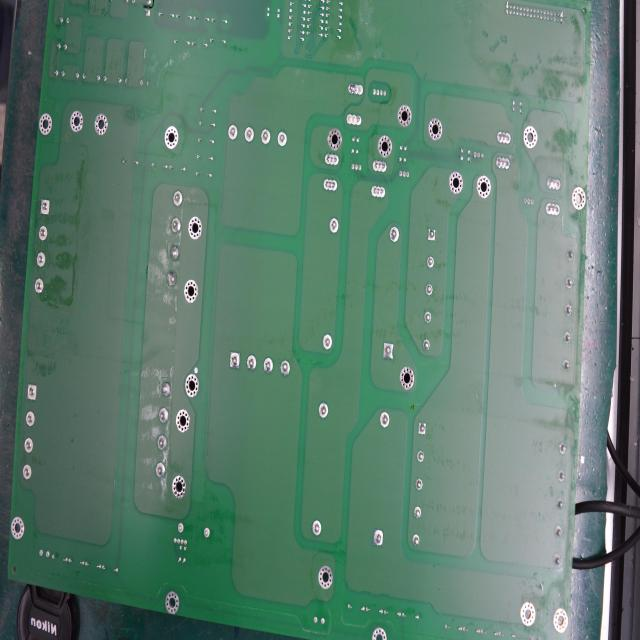slug: (167, 242, 180, 262), (166, 269, 178, 289), (159, 377, 171, 397)
